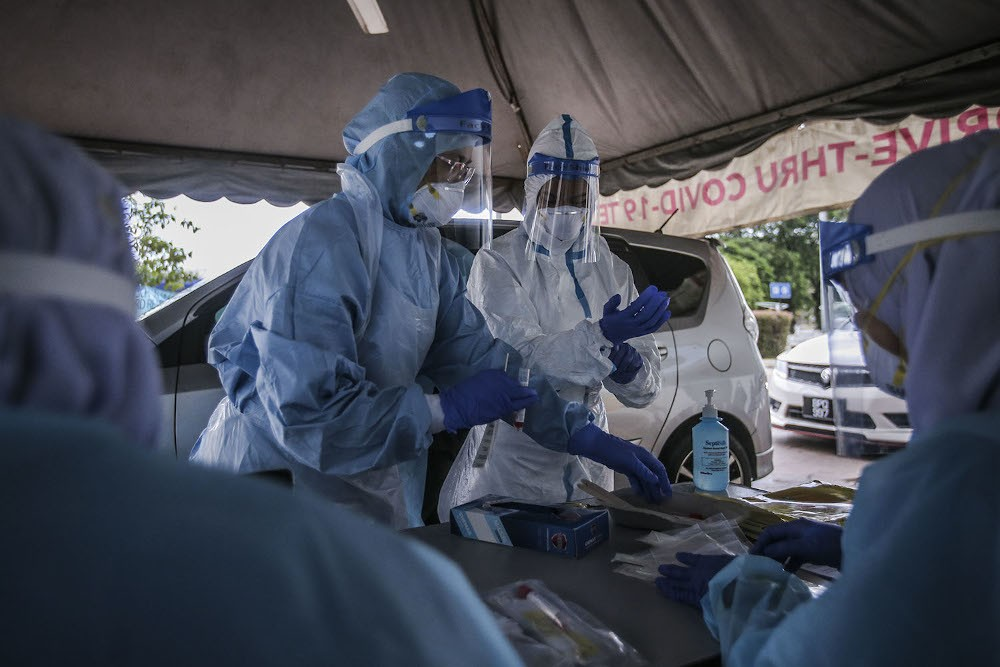Coverall: (187, 69, 511, 543), (429, 109, 659, 540)
Face_Shield: (813, 217, 1000, 452), (402, 83, 502, 249), (517, 150, 614, 280)
Gloves: (570, 428, 680, 508), (653, 545, 776, 616), (439, 354, 538, 435), (742, 517, 852, 575), (594, 283, 674, 346)
with_mask: (847, 284, 915, 404), (406, 157, 467, 236), (531, 177, 588, 255)
